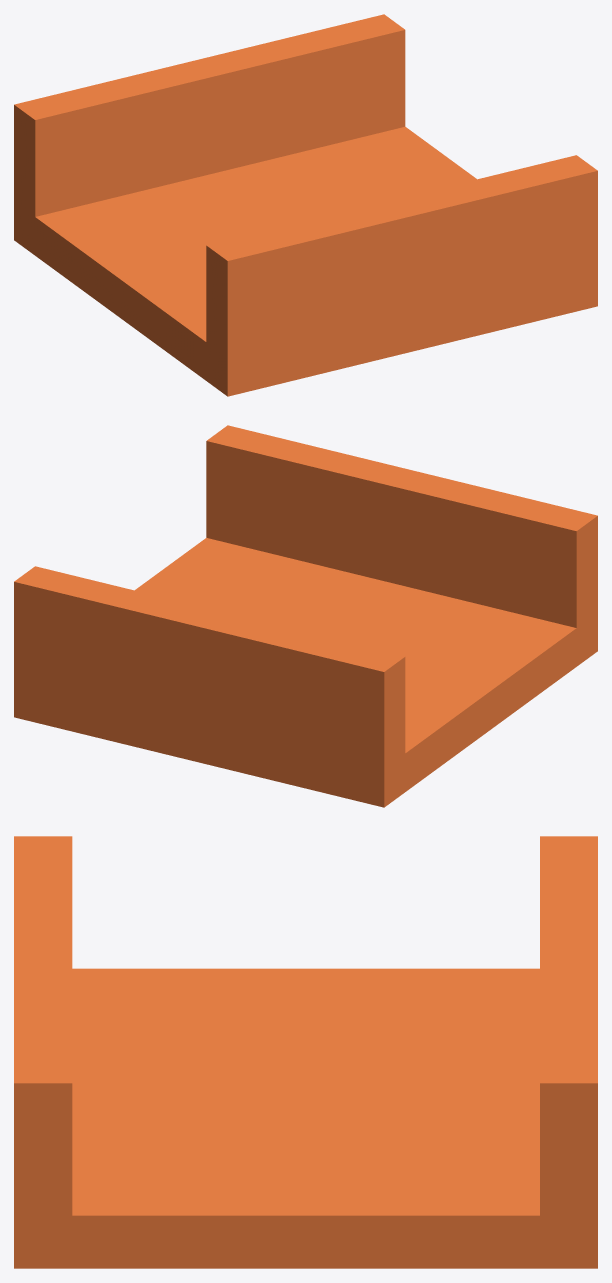
File: OrangeRoof_2Edges_Small.glb
The picture shows the model from 3 angles, top to bottom: view 1: azimuth 30°, elevation 25°; view 2: azimuth 150°, elevation 25°; view 3: azimuth 270°, elevation 25°; orthographic projection. The views are drawn at different scales.
Parts seen in each view (by area): view 1: roof_flat_2Edges_small_orange; view 2: roof_flat_2Edges_small_orange; view 3: roof_flat_2Edges_small_orange.
Part boxes in pixels (left/top/right/bottom): roof_flat_2Edges_small_orange: left=14, top=14, right=597, bottom=396; roof_flat_2Edges_small_orange: left=14, top=425, right=597, bottom=807; roof_flat_2Edges_small_orange: left=14, top=836, right=597, bottom=1268.
Size of what is drawn, in the model's own units: 2 by 0.7 by 2.
1 material, 1 textured.
